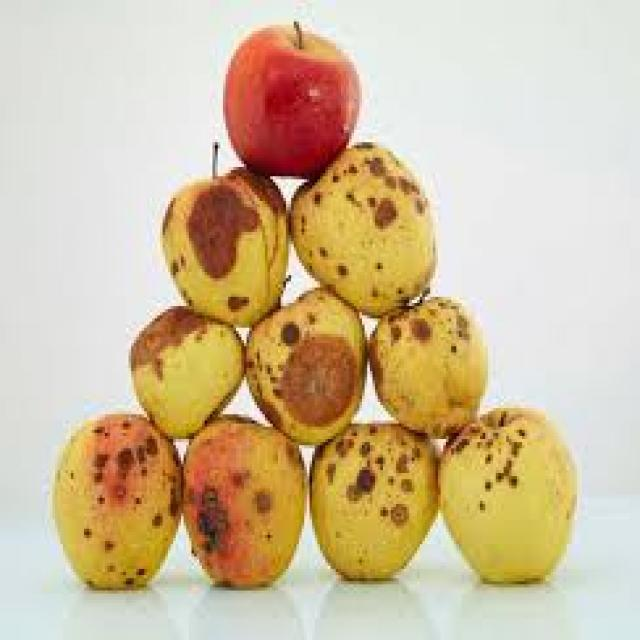Apple: (433, 417, 583, 587), (287, 150, 437, 307), (180, 428, 308, 592), (48, 418, 173, 585), (313, 433, 443, 588), (155, 178, 298, 317), (365, 297, 490, 428), (247, 302, 365, 425), (123, 317, 255, 422)
